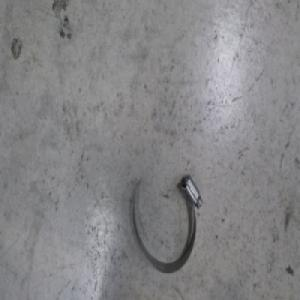AdjustableClamp: (129, 173, 203, 277)
